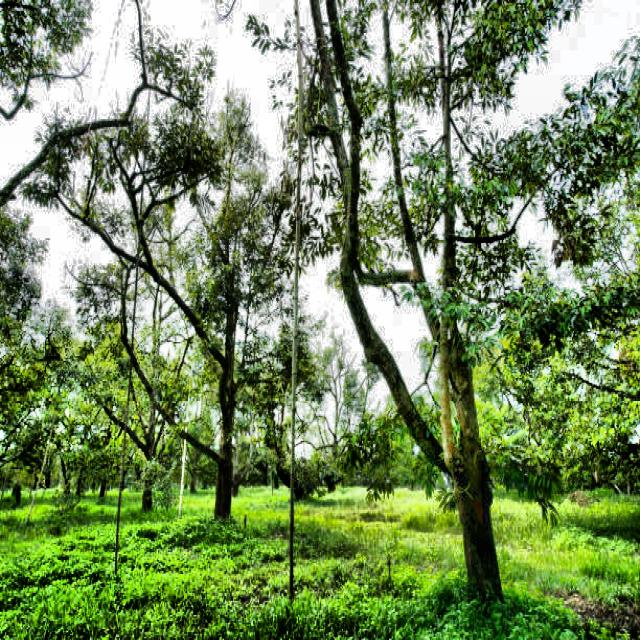arvore: (383, 188, 518, 593), (210, 244, 243, 542), (141, 334, 167, 536)
